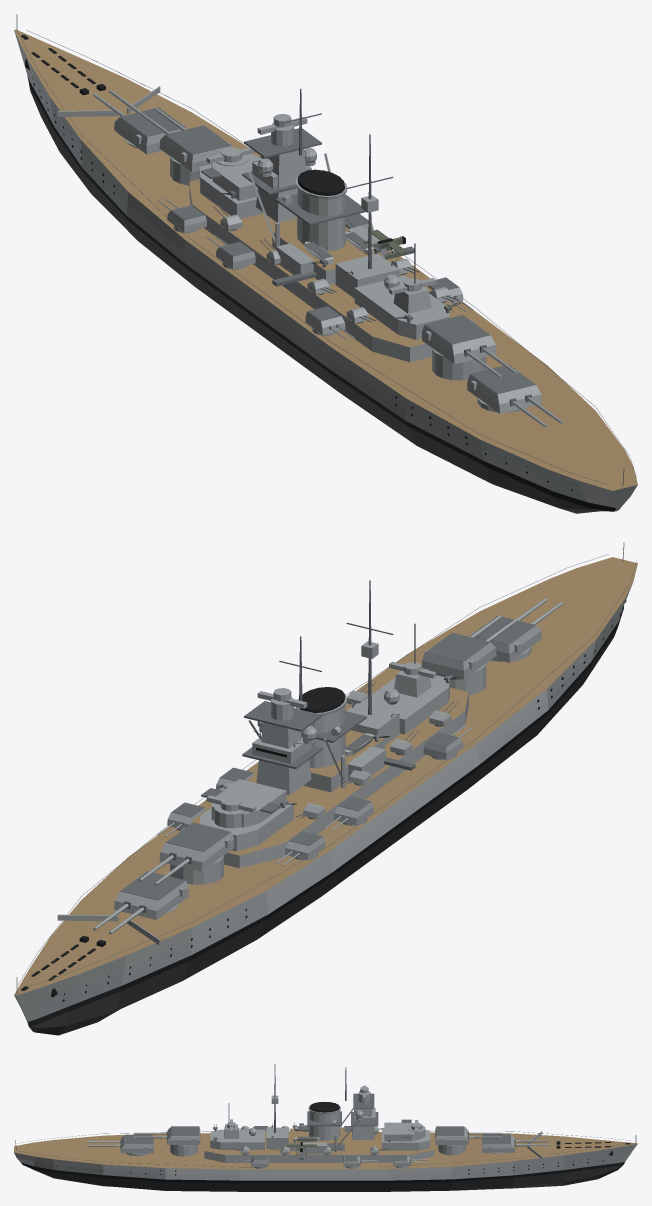
File: bismarck.glb
3 views of the same model, one above another, from view 1: azimuth 30°, elevation 25°; view 2: azimuth 150°, elevation 25°; view 3: azimuth 270°, elevation 25° (orthographic). The views are drawn at different scales.
Parts seen in each view (by area): view 1: Bismarck; view 2: Bismarck; view 3: Bismarck.
Boxes of the visible parts, <box> form: Bismarck: <box>14,14,637,513</box>; Bismarck: <box>14,542,637,1035</box>; Bismarck: <box>14,1064,637,1191</box>.
Bounding box in the file's own units: 35.82 × 53.3 × 251.
